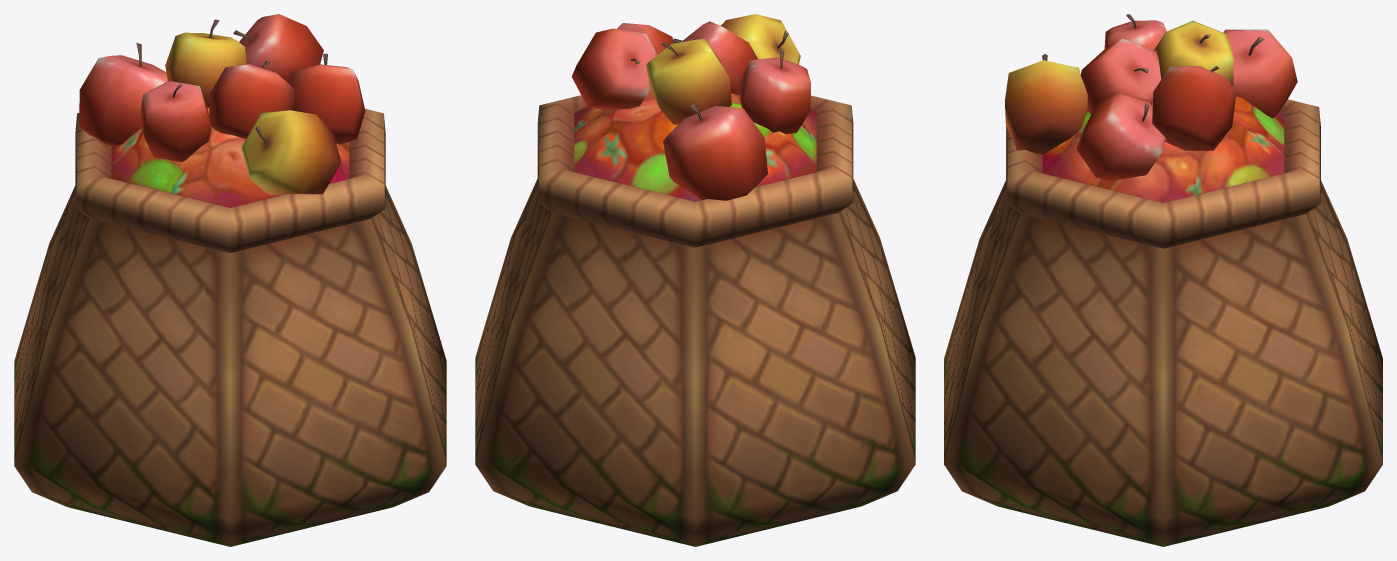
File: map_7201_xwj_04.FBX
3 renders of one model, left to right at view 1: azimuth 30°, elevation 25°; view 2: azimuth 150°, elevation 25°; view 3: azimuth 270°, elevation 25°, orthographic.
Visible parts, largest first — view 1: map_7201_xwj_04; view 2: map_7201_xwj_04; view 3: map_7201_xwj_04.
Boxes of the visible parts, x1,y1,x2,y2 form: map_7201_xwj_04: (14, 14, 446, 546); map_7201_xwj_04: (475, 14, 915, 546); map_7201_xwj_04: (944, 14, 1382, 546).
Size of the model in its own units: 0.8342 by 0.7922 by 0.7224.
